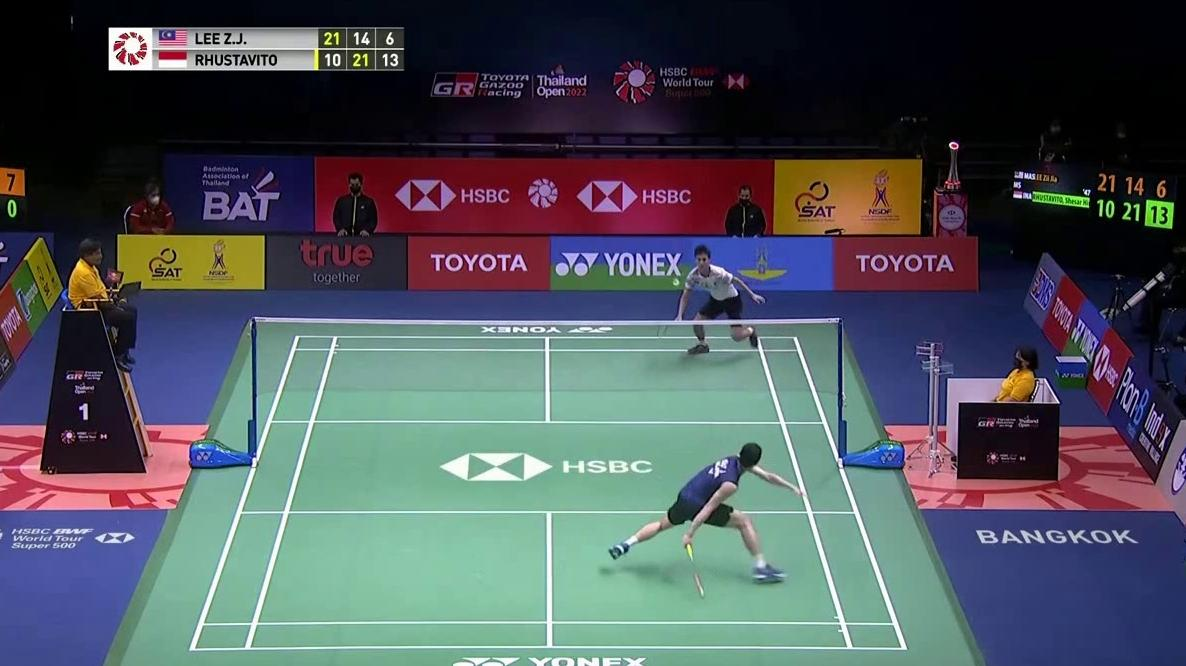racket: (682, 531, 708, 600), (656, 318, 683, 339)
shuttle: (671, 278, 681, 286)
